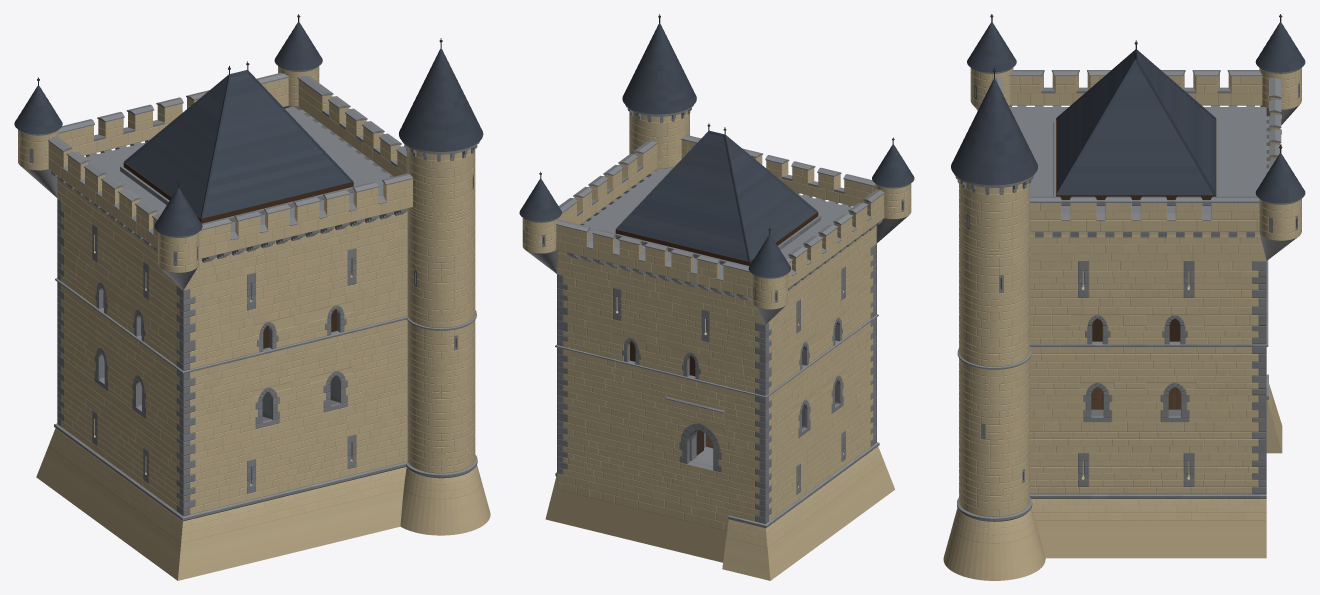
3 views of the same model, side by side, from view 1: azimuth 30°, elevation 25°; view 2: azimuth 150°, elevation 25°; view 3: azimuth 270°, elevation 25° (orthographic). The views are drawn at different scales.
Visible parts, largest first — view 1: Mesh_Keep_ck-limestone-ashlar, Mesh_Keep_ck-granite-ashlar, Mesh_Keep_ck-slate, Mesh_Keep_ck-oak-planks; view 2: Mesh_Keep_ck-limestone-ashlar, Mesh_Keep_ck-granite-ashlar, Mesh_Keep_ck-slate, Mesh_Keep_ck-oak-planks; view 3: Mesh_Keep_ck-limestone-ashlar, Mesh_Keep_ck-slate, Mesh_Keep_ck-granite-ashlar, Mesh_Keep_ck-oak-planks.
Part boxes in pixels (left/top/right/bottom): Mesh_Keep_ck-limestone-ashlar: left=18, top=66, right=490, bottom=580; Mesh_Keep_ck-granite-ashlar: left=19, top=66, right=479, bottom=521; Mesh_Keep_ck-slate: left=14, top=22, right=483, bottom=236; Mesh_Keep_ck-oak-planks: left=103, top=162, right=353, bottom=348; Mesh_Keep_ck-limestone-ashlar: left=522, top=111, right=911, bottom=580; Mesh_Keep_ck-granite-ashlar: left=523, top=105, right=910, bottom=528; Mesh_Keep_ck-slate: left=519, top=23, right=914, bottom=277; Mesh_Keep_ck-oak-planks: left=615, top=212, right=835, bottom=455; Mesh_Keep_ck-limestone-ashlar: left=943, top=68, right=1301, bottom=580; Mesh_Keep_ck-slate: left=951, top=22, right=1305, bottom=203; Mesh_Keep_ck-granite-ashlar: left=954, top=68, right=1300, bottom=521; Mesh_Keep_ck-oak-planks: left=1056, top=119, right=1216, bottom=409.
Size of the model in its own units: 22.17 by 30.8 by 20.57.
